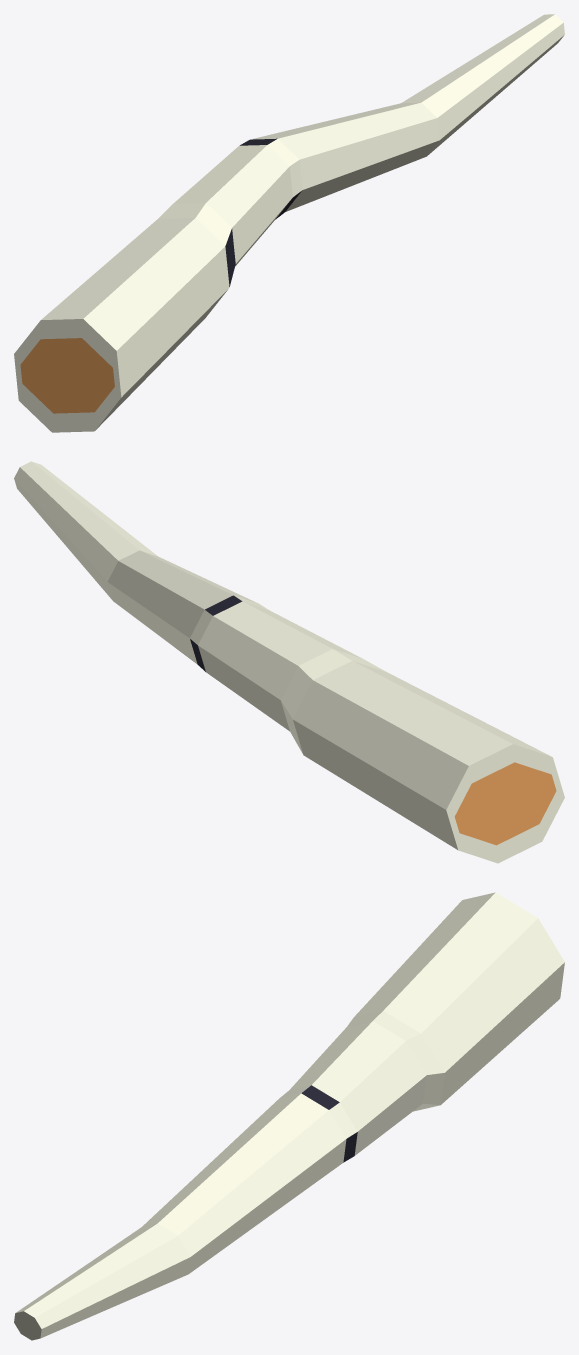
File: Log1_autumn.FBX
The picture shows the model from 3 angles, top to bottom: view 1: azimuth 90°, elevation 25°; view 2: azimuth 150°, elevation 25°; view 3: azimuth 270°, elevation 25°; orthographic projection. The views are drawn at different scales.
Visible parts, largest first — view 1: Object010; view 2: Object010; view 3: Object010.
Boxes of the visible parts, x1,y1,x2,y2 form: Object010: (14,14,564,432); Object010: (14,461,564,863); Object010: (14,892,564,1340).
Size of the model in its own units: 1.44 by 0.2 by 0.8771.
